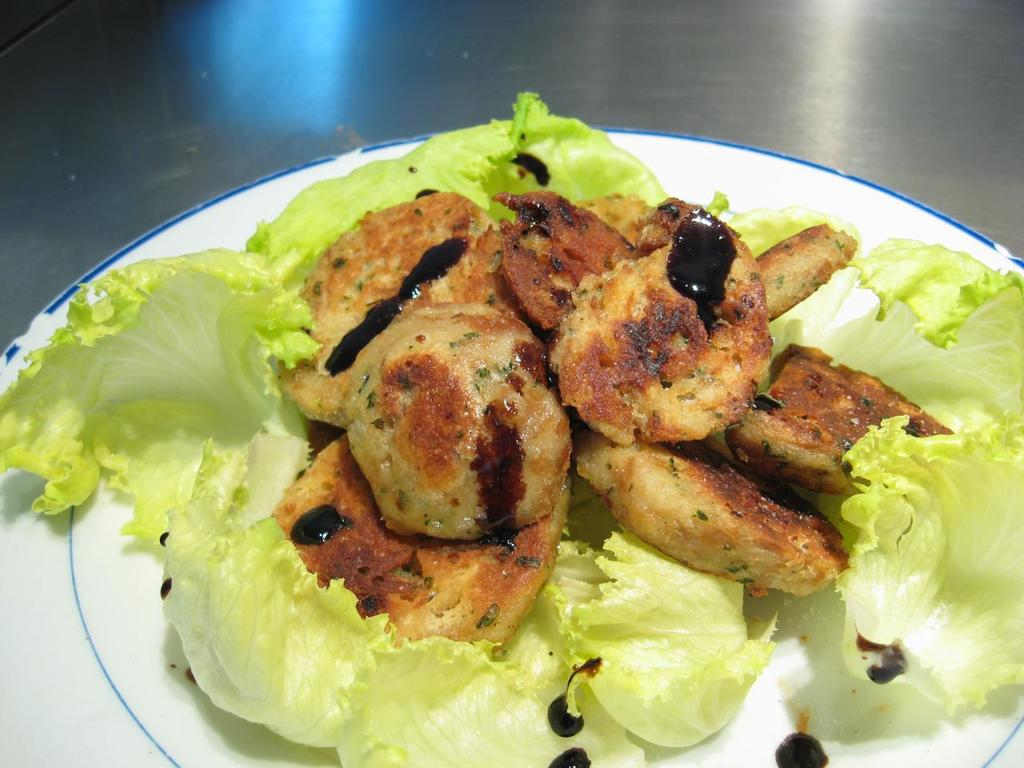salad: (0, 89, 1023, 767)
